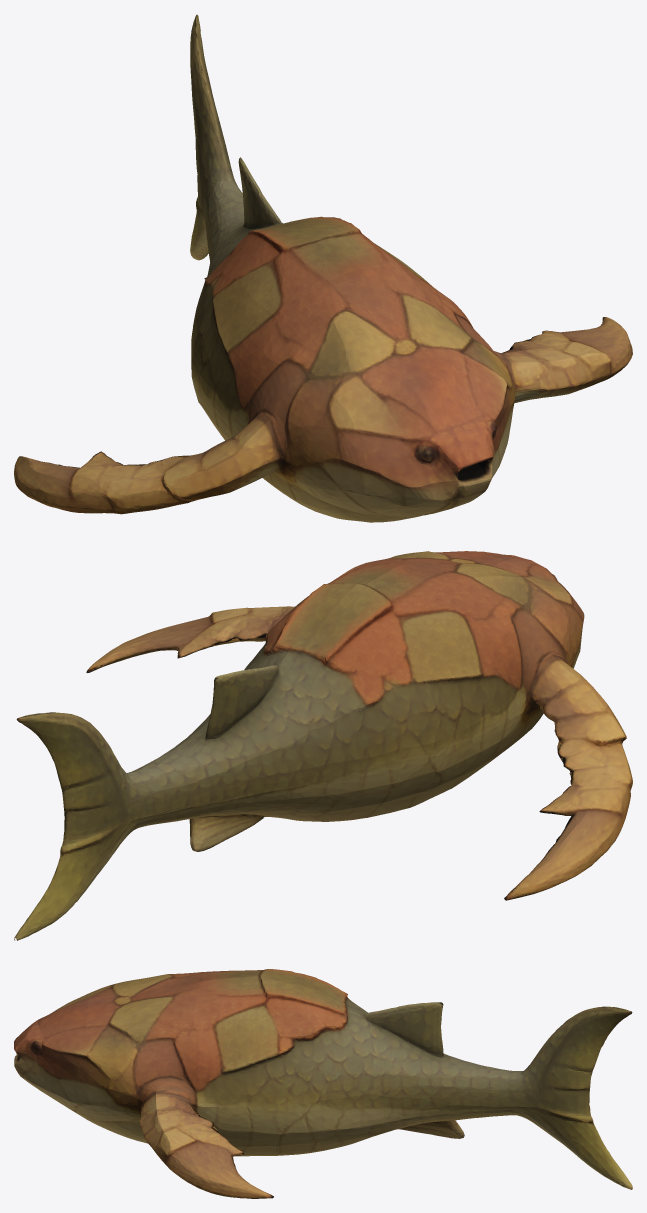
3 renders of one model, top to bottom at view 1: azimuth 30°, elevation 25°; view 2: azimuth 150°, elevation 25°; view 3: azimuth 270°, elevation 25°, orthographic. The views are drawn at different scales.
Parts seen in each view (by area): view 1: world; view 2: world; view 3: world.
Part boxes in pixels (x1,y1,x2,y2): world: [14, 14, 632, 522]; world: [14, 551, 632, 940]; world: [14, 969, 632, 1198].
Size of the model in its own units: 0.3899 by 0.161 by 0.5.
1 material, 1 textured.
